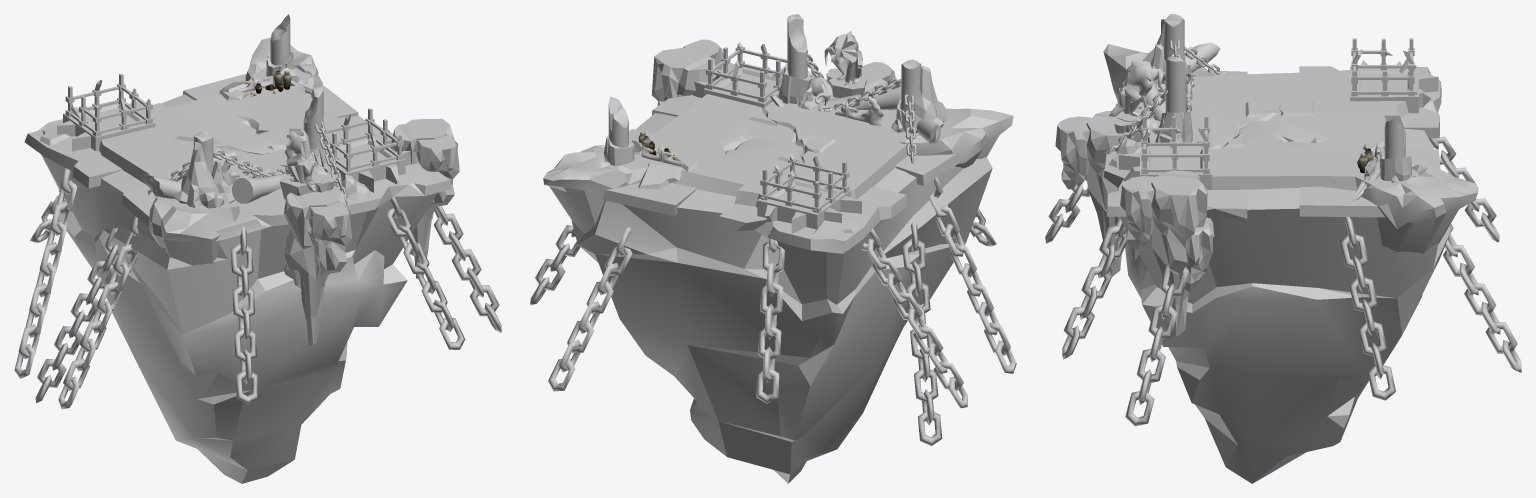
Rendered from E_Cell3LR.fbx.
3 views of the same model, side by side, from view 1: azimuth 30°, elevation 25°; view 2: azimuth 150°, elevation 25°; view 3: azimuth 270°, elevation 25° (orthographic). The views are drawn at different scales.
Visible parts, largest first — view 1: E_Cell3LR; view 2: E_Cell3LR; view 3: E_Cell3LR.
Part boxes in pixels (bbox=[...]): E_Cell3LR: bbox=[14, 14, 501, 483]; E_Cell3LR: bbox=[530, 14, 1016, 483]; E_Cell3LR: bbox=[1045, 14, 1521, 483].
Bounding box in the file's own units: 36.68 × 36.01 × 35.89.
